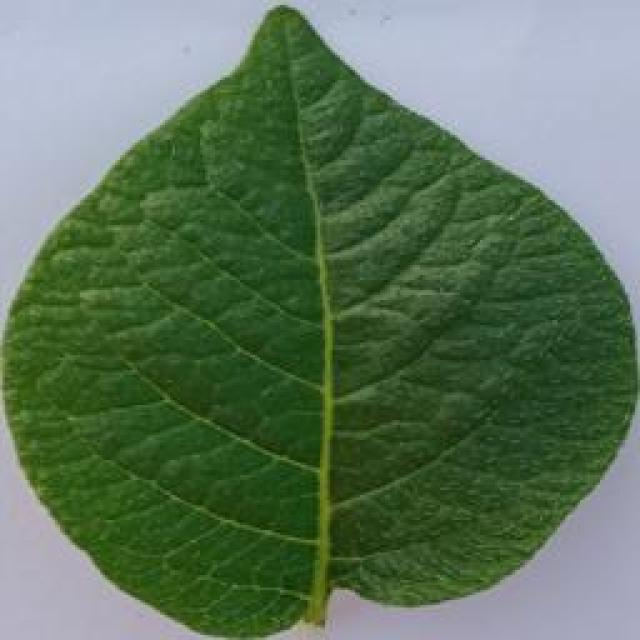Potato_Healthy: (4, 0, 626, 630)
